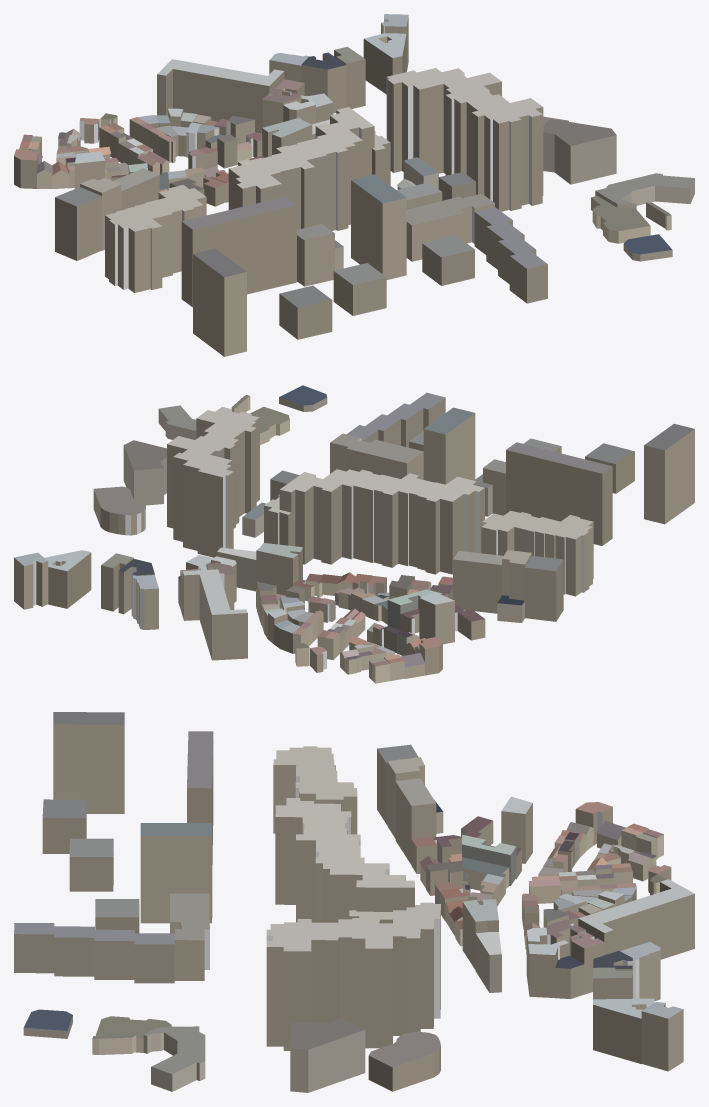
3 renders of one model, top to bottom at view 1: azimuth 30°, elevation 25°; view 2: azimuth 150°, elevation 25°; view 3: azimuth 270°, elevation 25°, orthographic. The views are drawn at different scales.
Parts seen in each view (by area): view 1: tuile; view 2: tuile; view 3: tuile.
Part boxes in pixels (box(x1,y1,x2,y2)): tuile: box(14, 14, 694, 356); tuile: box(14, 385, 694, 683); tuile: box(14, 712, 694, 1092).
Size of the model in its own units: 281 by 48.97 by 276.
